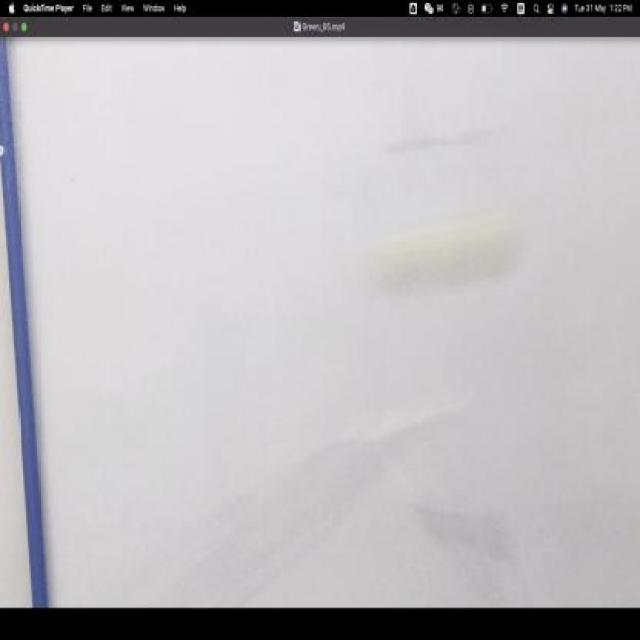baseball: (362, 208, 528, 290)
